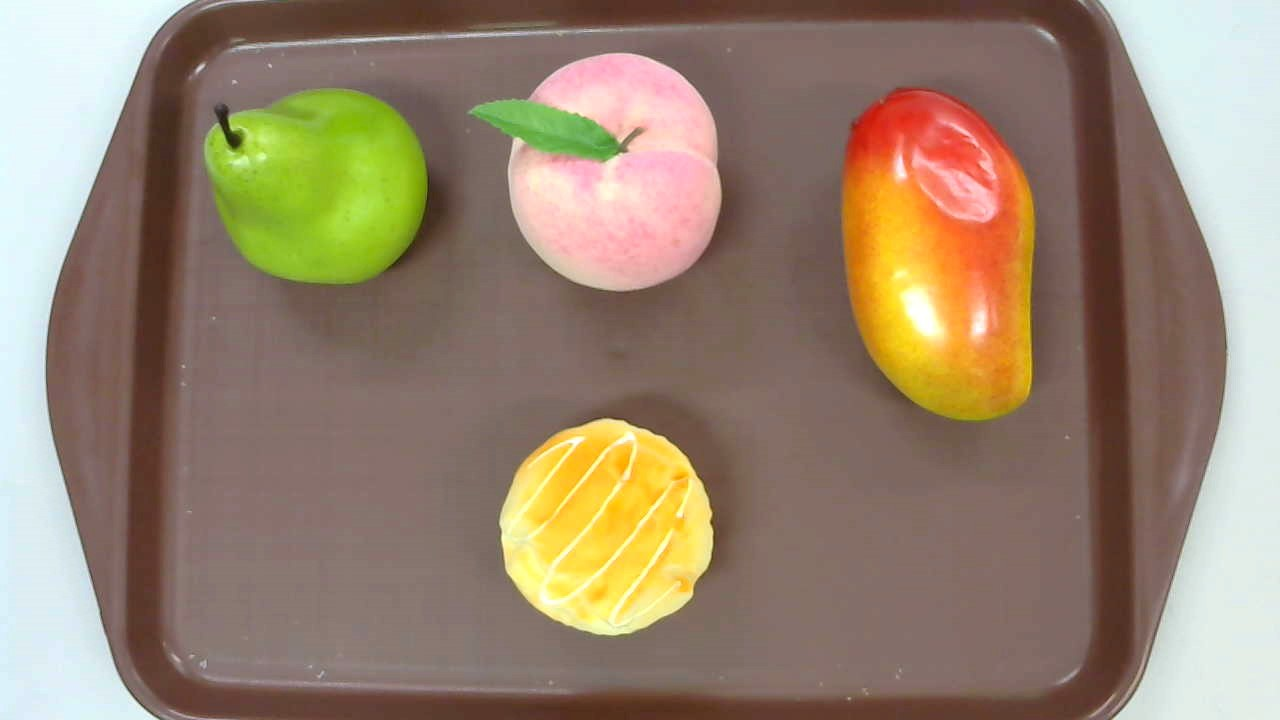cupcake: (499, 416, 716, 636)
green pear: (203, 87, 428, 285)
peach: (467, 53, 722, 292)
red mango: (842, 86, 1037, 422)
